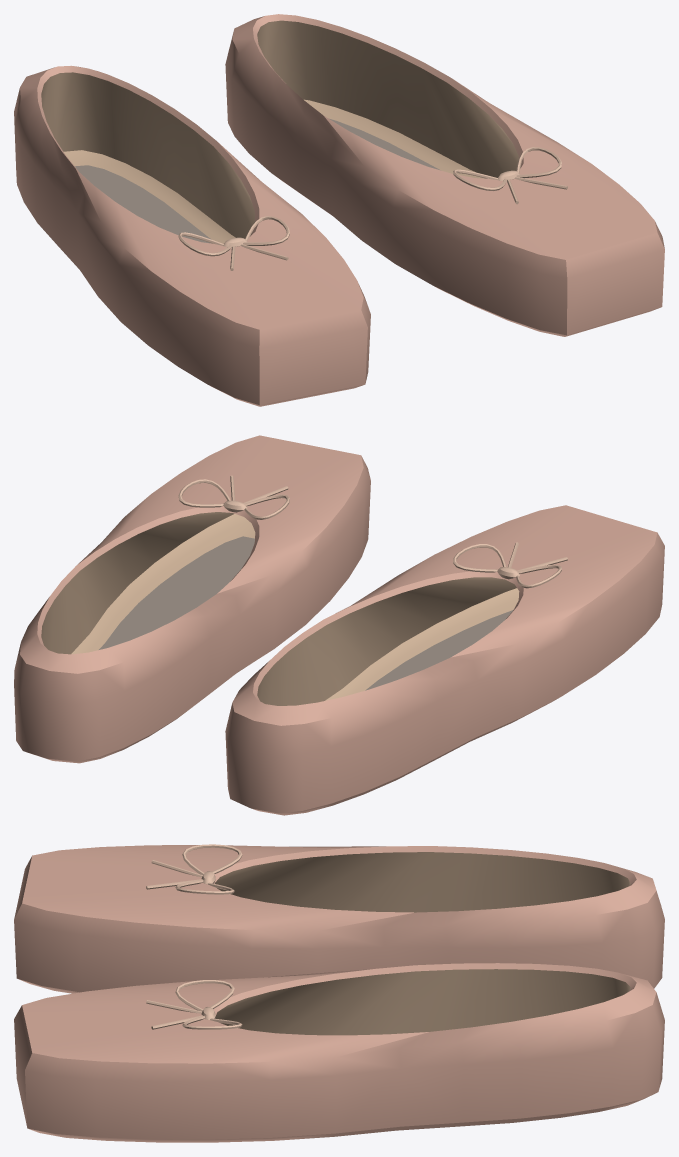
3 renders of one model, top to bottom at view 1: azimuth 30°, elevation 25°; view 2: azimuth 150°, elevation 25°; view 3: azimuth 270°, elevation 25°, orthographic.
Parts seen in each view (by area): view 1: R_hollow_satin_shoe_with_lining, L_hollow_satin_shoe_with_lining, L_insole, R_insole; view 2: L_hollow_satin_shoe_with_lining, R_hollow_satin_shoe_with_lining, R_insole, L_insole; view 3: R_hollow_satin_shoe_with_lining, L_hollow_satin_shoe_with_lining, L_drawstring_loop_left, R_drawstring_loop_left.
Boxes of the visible parts, left/top/right/bottom form: R_hollow_satin_shoe_with_lining: left=225, top=14, right=664, bottom=336; L_hollow_satin_shoe_with_lining: left=14, top=65, right=370, bottom=406; L_insole: left=75, top=165, right=211, bottom=243; R_insole: left=329, top=118, right=440, bottom=170; L_hollow_satin_shoe_with_lining: left=225, top=505, right=664, bottom=815; R_hollow_satin_shoe_with_lining: left=14, top=435, right=370, bottom=763; R_insole: left=99, top=536, right=254, bottom=649; L_insole: left=365, top=610, right=513, bottom=690; R_hollow_satin_shoe_with_lining: left=14, top=963, right=664, bottom=1142; L_hollow_satin_shoe_with_lining: left=14, top=845, right=664, bottom=993; L_drawstring_loop_left: left=182, top=844, right=242, bottom=874; R_drawstring_loop_left: left=175, top=980, right=234, bottom=1011.
Bounding box in the file's own units: 0.1879 × 0.043 × 0.2302.
